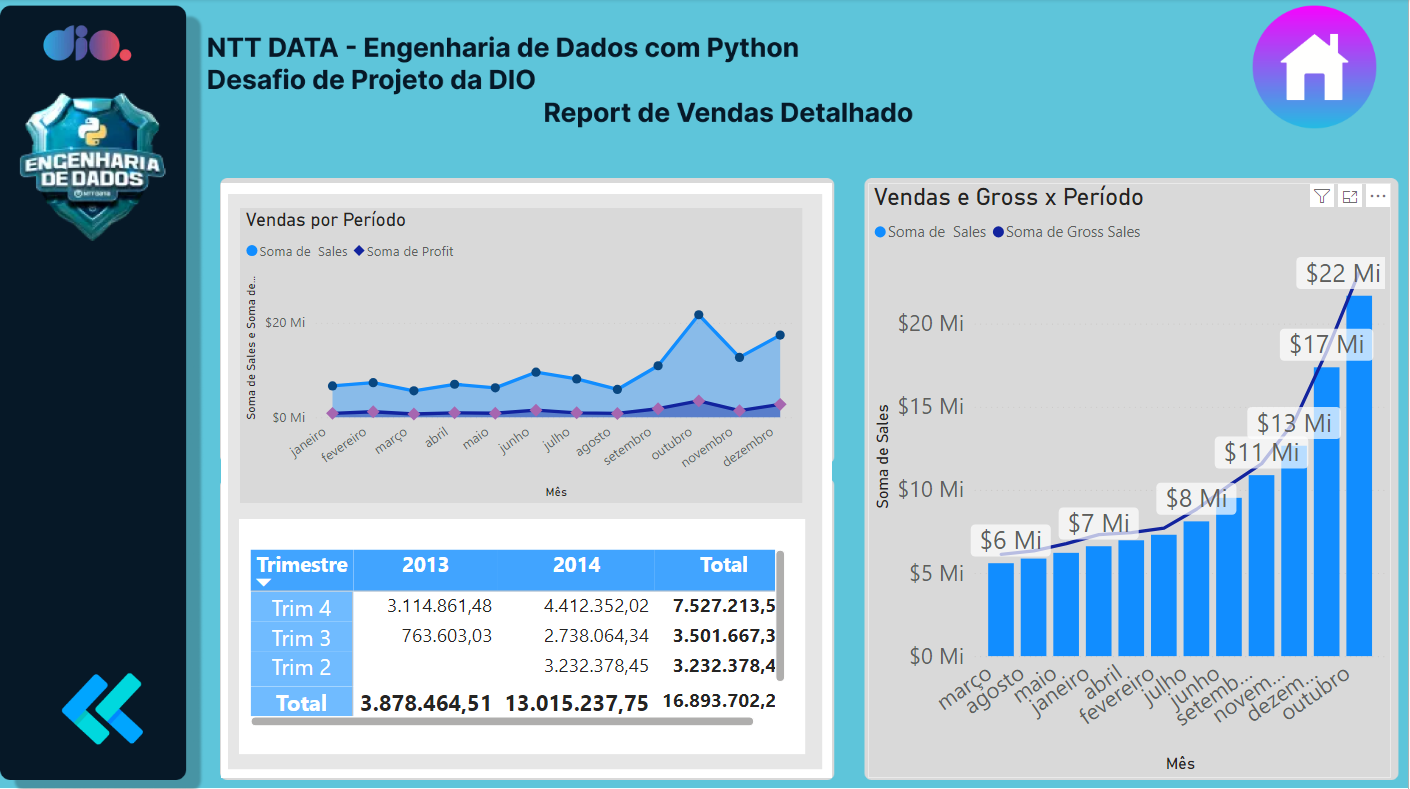

The dashboard page shown, as its layout file describes it:
{"tool":"powerbi","page":{"name":"Report","canvas":[1280,720],"ordinal":2},"visuals":[{"type":"shape","box":[205.5,166.6,553.1,538.6],"z":0,"group":"g1"},{"type":"shape","box":[212,176.5,538.3,520.9],"z":1000,"group":"g1"},{"type":"lineClusteredColumnComboChart","title":"Vendas e Gross x Período","fields":{"Category":["financials.Date.Variation.Hierarquia de datas.Mês"],"Y":["Sum(financials. Sales)"],"Y2":["Sum(financials.Gross Sales)"]},"box":[791.2,166.6,473.4,538.6],"z":1000},{"type":"group","id":"g1","title":"Detalhes venda x profit","box":[205.5,166.6,553.1,538.6],"z":2000},{"type":"shape","box":[221.5,470.7,512.8,213.2],"z":2000,"group":"g1"},{"type":"areaChart","title":"Vendas por Período","fields":{"Category":["financials.Date.Variation.Hierarquia de datas.Trimestre","financials.Date.Variation.Hierarquia de datas.Mês"],"Y":["Sum(financials. Sales)","Sum(financials.Profit)"]},"box":[222.3,188.9,508.7,267.3],"z":3000,"group":"g1"},{"type":"pivotTable","fields":{"Columns":["financials.Date.Variation.Hierarquia de datas.Ano"],"Rows":["financials.Date.Variation.Hierarquia de datas.Trimestre"],"Values":["Sum(financials.Profit)"]},"box":[227.2,493.1,494.4,169.9],"z":4000,"group":"g1"},{"type":"actionButton","box":[1138.8,9.1,125.8,109.5],"z":6001},{"type":"actionButton","box":[10,611,159.3,72.4],"z":6002}]}

Visuals, with their boxes in screenshot pixels (x1, y1, x2, y2), scaled from the page's 1280x720 canvas onto the 1410x789 screenshot:
shape: [226,183,836,773]
shape: [234,193,827,764]
"Vendas e Gross x Período" lineClusteredColumnComboChart: [872,183,1393,773]
"Detalhes venda x profit" group: [226,183,836,773]
shape: [244,516,809,749]
"Vendas por Período" areaChart: [245,207,805,500]
pivotTable - financials.Date.Variation.Hierarquia de datas.Ano x financials.Date.Variation.Hierarquia de datas.Trimestre: [250,540,795,727]
actionButton: [1254,10,1393,130]
actionButton: [11,670,186,749]
